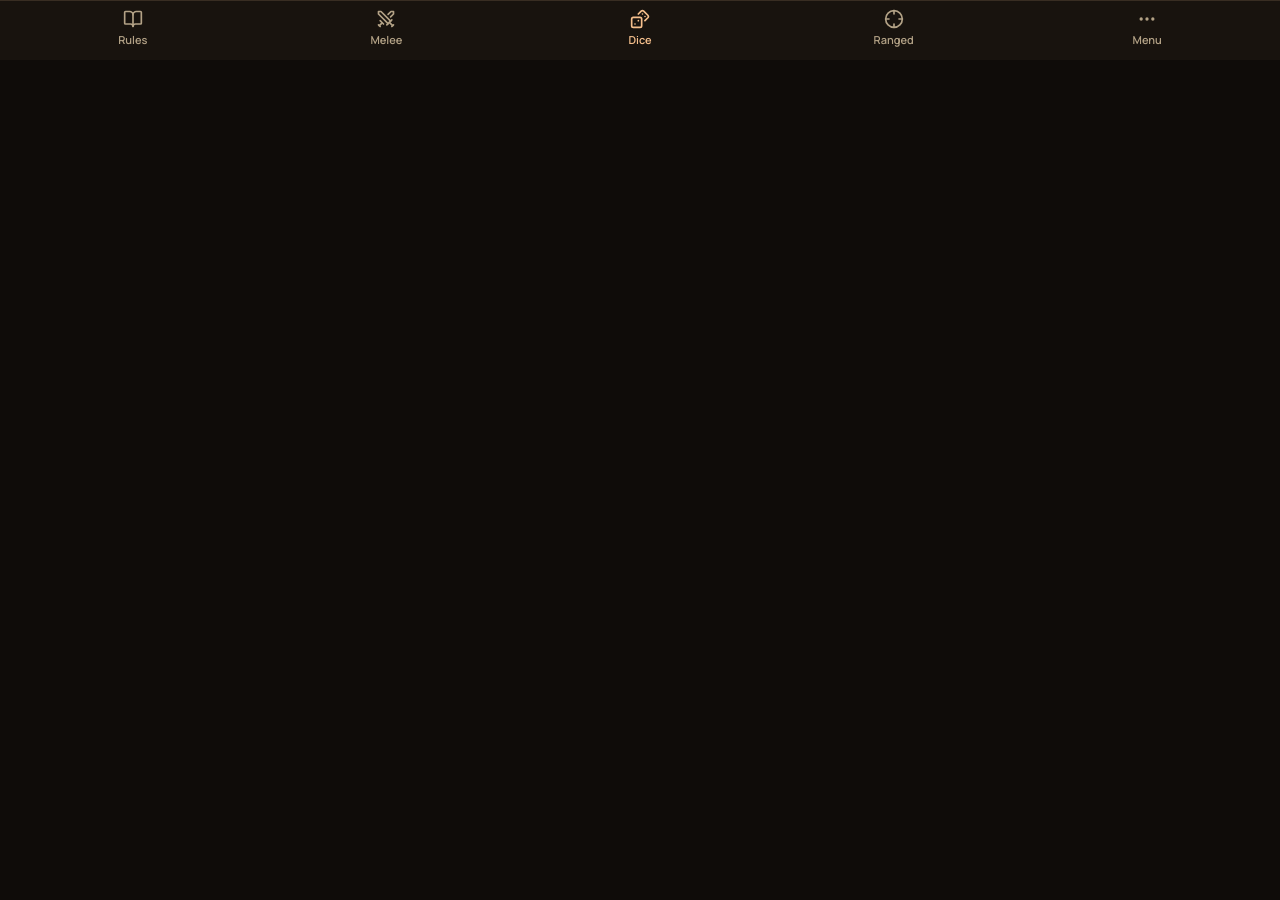
Scenario: BattleToolsBar › shows the Misfire chart in Ranged, and not in Melee
Click the button "Ranged": (894,26) [767,0,1020,52]
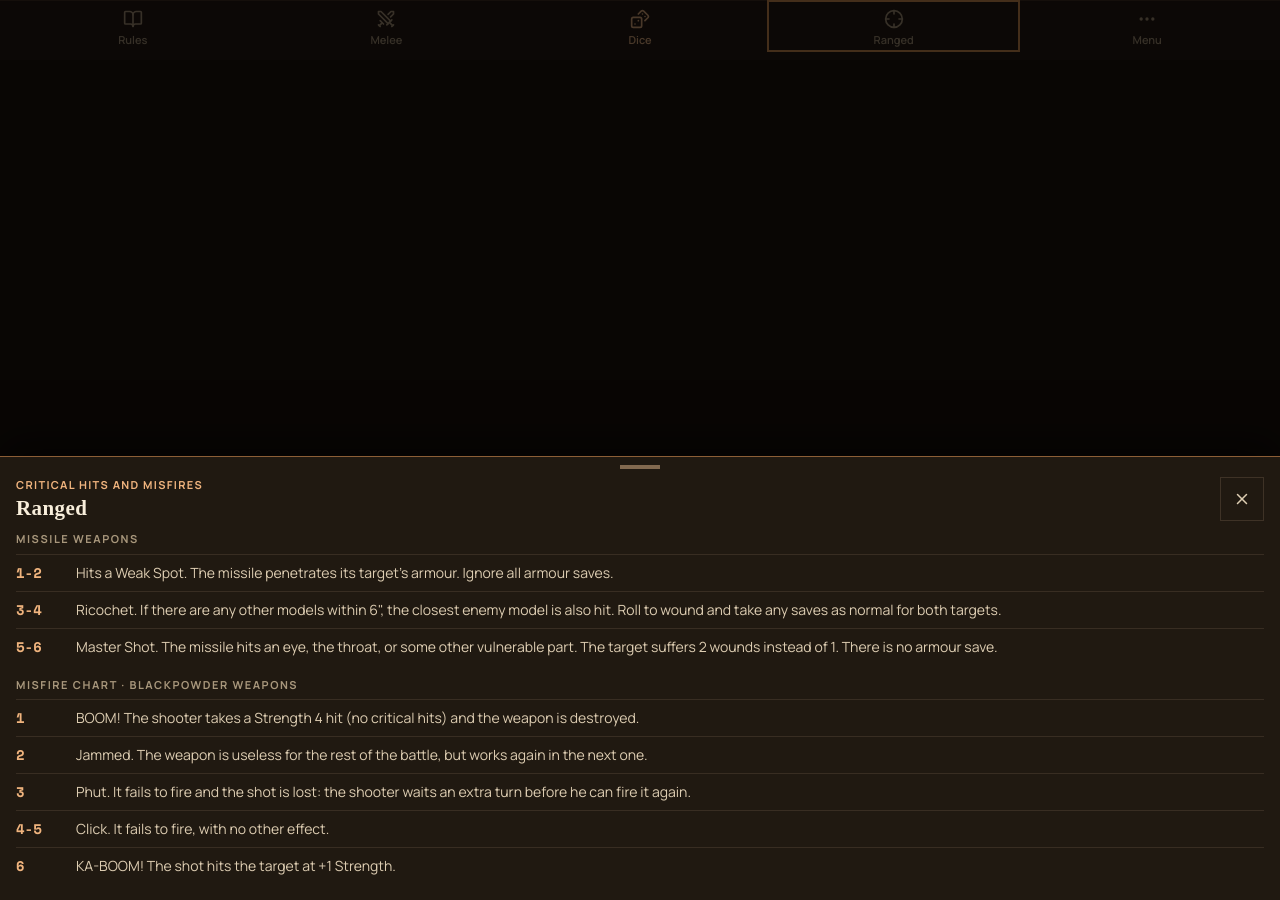
Result: the element "Blackpowder Weapons" shows "Misfire chart · Blackpowder Weapons" at [16,676,298,692]
